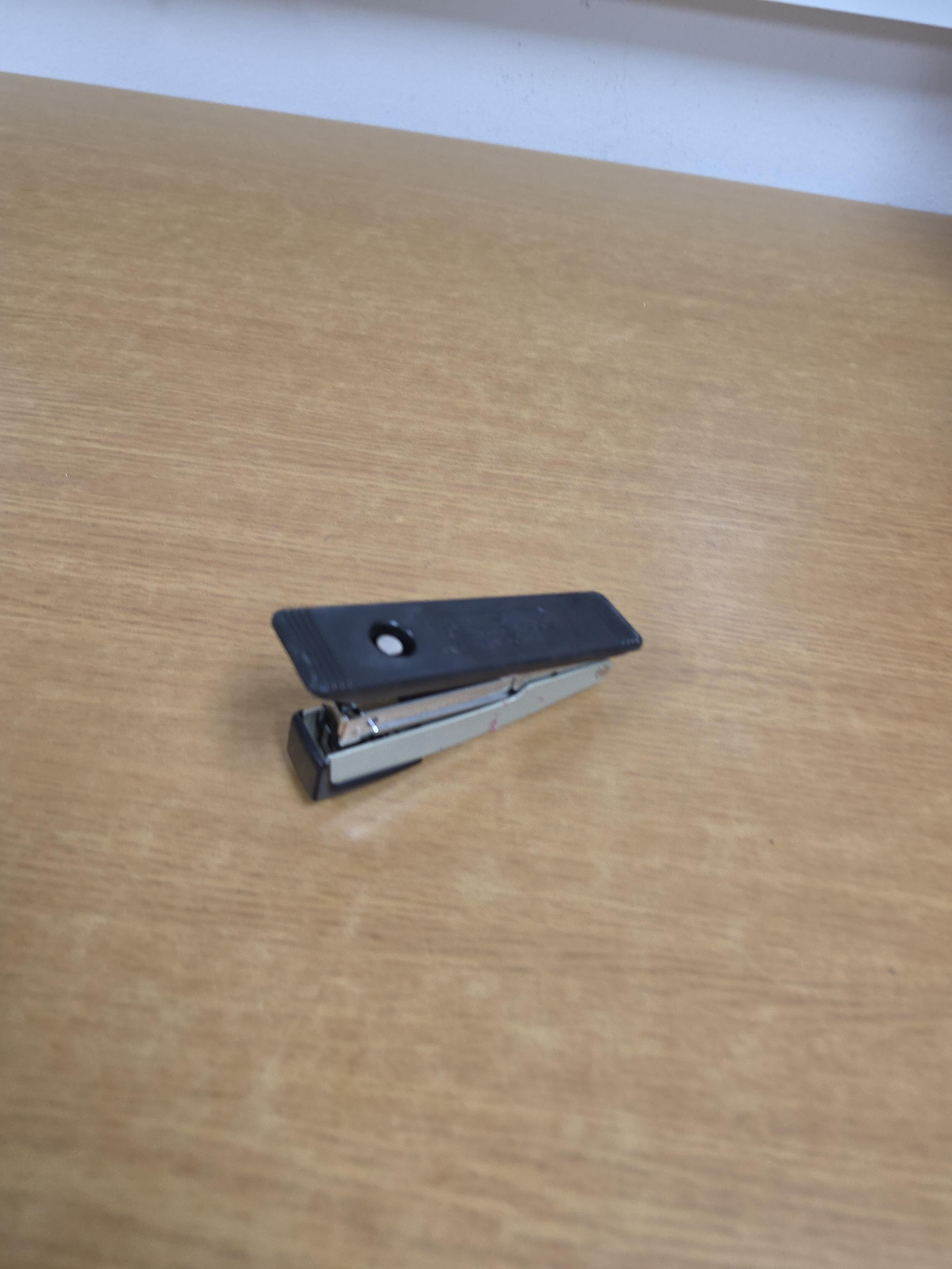stapler: (271, 590, 643, 803)
